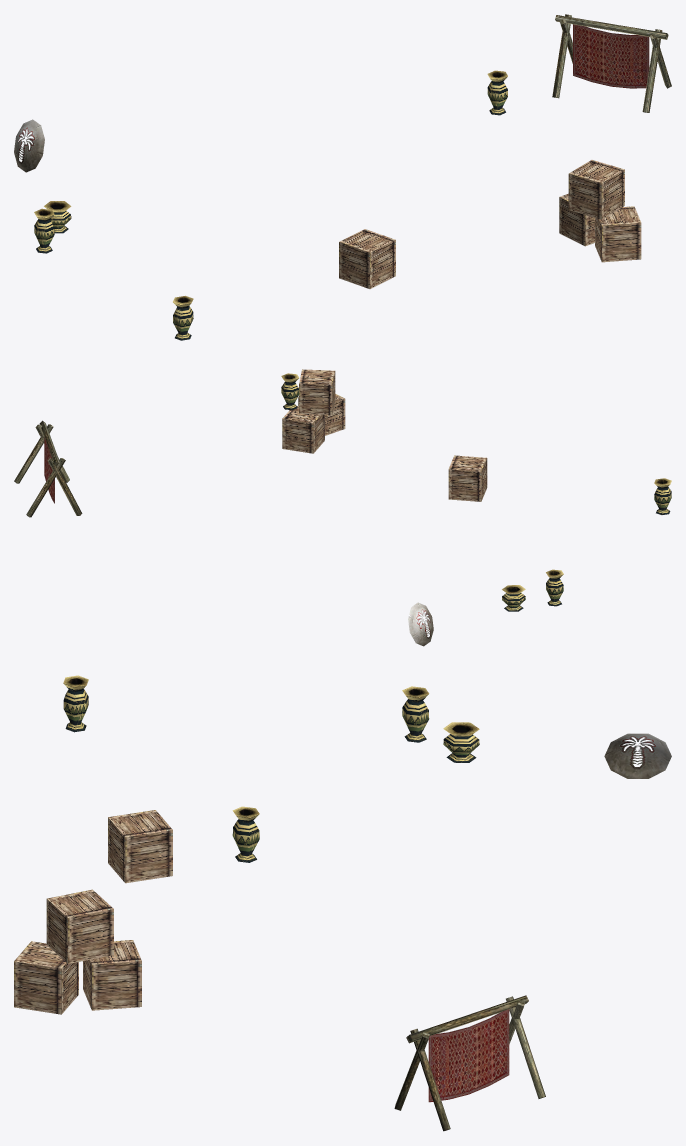
File: kart_governmentcentre_a.dae
The picture shows the model from 3 angles, top to bottom: view 1: azimuth 30°, elevation 25°; view 2: azimuth 150°, elevation 25°; view 3: azimuth 270°, elevation 25°; orthographic projection. The views are drawn at different scales.
Visible parts, largest first — view 1: Cylinder15; view 2: Cylinder15; view 3: Cylinder15.
Boxes of the visible parts, x1,y1,x2,y2 form: Cylinder15: (14, 14, 671, 340); Cylinder15: (14, 369, 671, 646); Cylinder15: (14, 675, 671, 1131).
Size of the model in its own units: 27.89 by 5.51 by 19.45.
